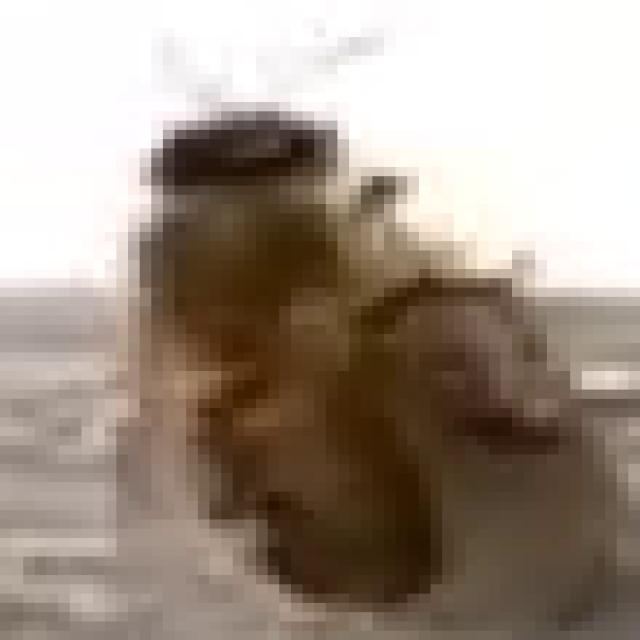honeybee: (144, 112, 511, 607)
